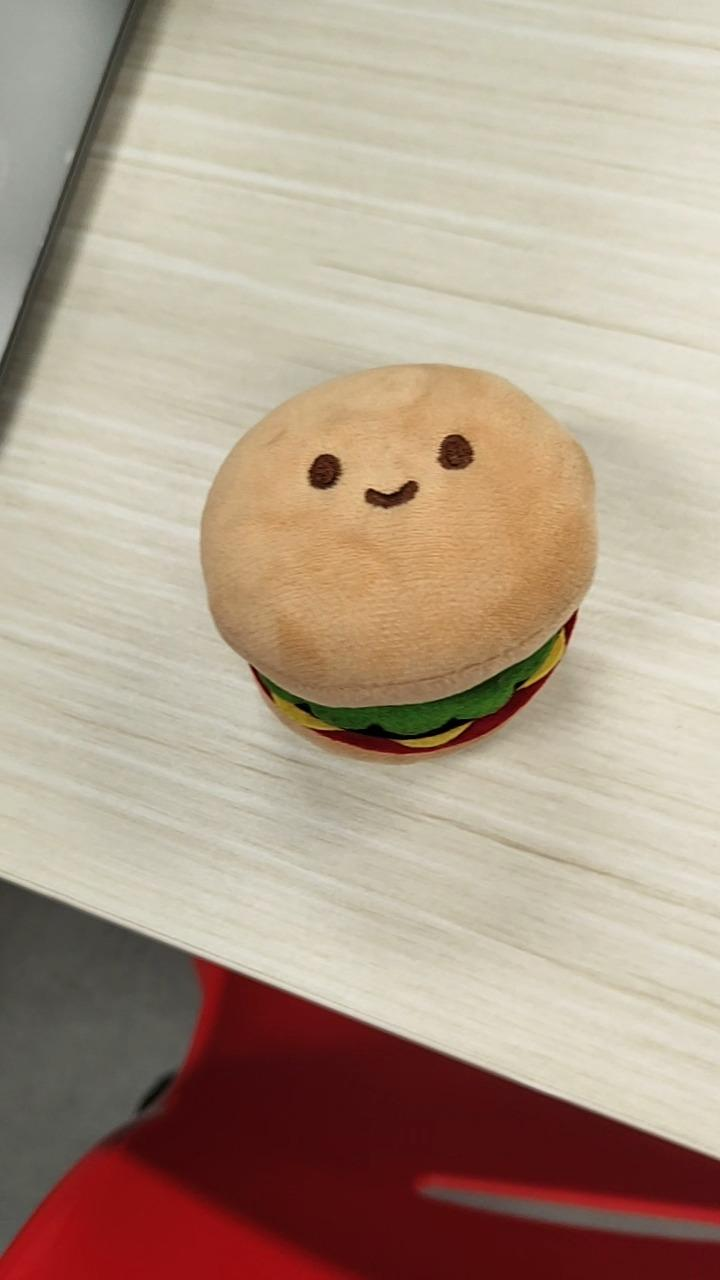hamburger: (198, 360, 599, 763)
